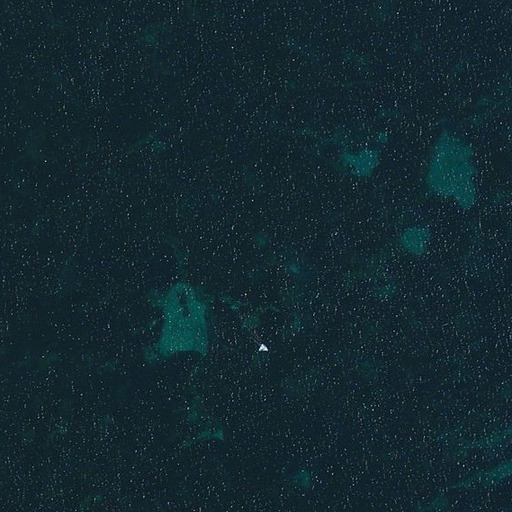ship: (255, 341, 270, 355)
